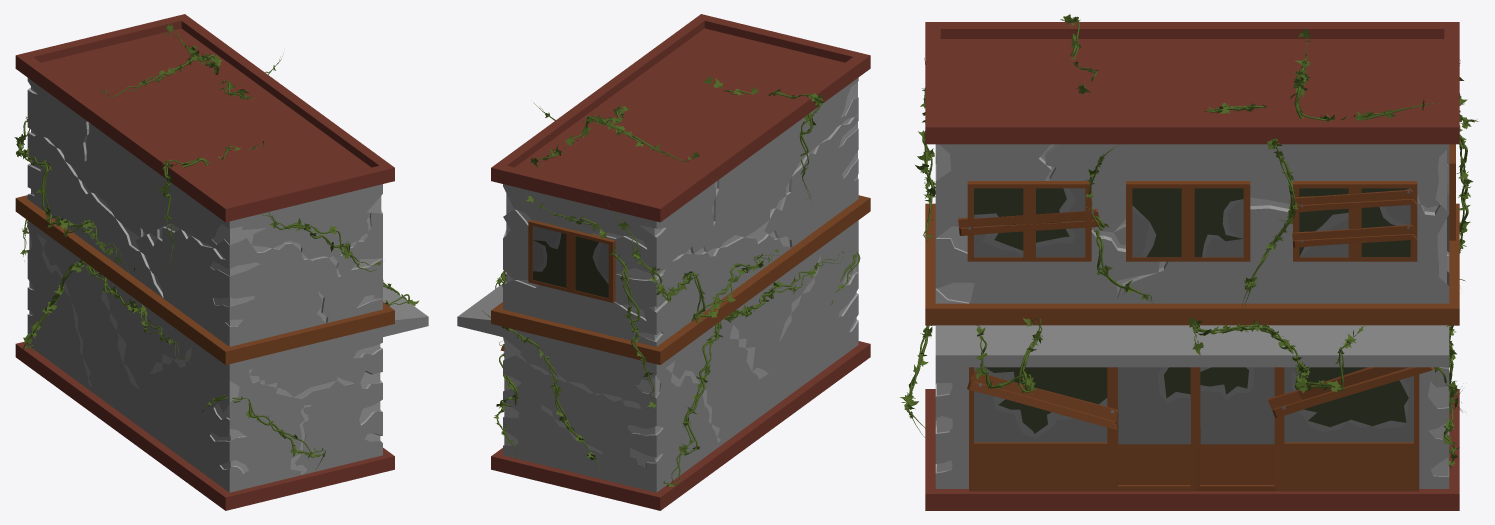
File: Building5_Fix.fbx
3 views of the same model, side by side, from view 1: azimuth 30°, elevation 25°; view 2: azimuth 150°, elevation 25°; view 3: azimuth 270°, elevation 25° (orthographic). The views are drawn at different scales.
Parts seen in each view (by area): view 1: Cube.014, Cube.012, Cube.015, Cube.011, Cube.013, Vines.003; view 2: Cube.014, Cube.012, Cube.015, Vines.003, Cube.011, Cube.013, Cube.010; view 3: Cube.014, Cube.041, Cube.012, Cube.015, Cube.013, Cube.011, Vines.003, Cube.039, Cube.038, Cube.040, Wooden Planks.038, Wooden Planks.037 (+4 smaller).
Part boxes in pixels (bbox=[...]): Cube.014: bbox=[27, 28, 382, 346]; Cube.012: bbox=[27, 220, 428, 492]; Cube.015: bbox=[15, 14, 394, 222]; Cube.011: bbox=[15, 341, 394, 510]; Cube.013: bbox=[15, 195, 394, 364]; Vines.003: bbox=[14, 23, 419, 469]; Cube.014: bbox=[503, 28, 858, 346]; Cube.012: bbox=[457, 220, 858, 492]; Cube.015: bbox=[491, 14, 870, 222]; Vines.003: bbox=[481, 76, 860, 491]; Cube.011: bbox=[491, 341, 870, 510]; Cube.013: bbox=[491, 195, 870, 364]; Cube.010: bbox=[528, 219, 615, 302]; Cube.014: bbox=[935, 39, 1449, 303]; Cube.041: bbox=[969, 367, 1419, 491]; Cube.012: bbox=[935, 325, 1449, 488]; Cube.015: bbox=[925, 22, 1459, 144]; Cube.013: bbox=[925, 203, 1459, 325]; Cube.011: bbox=[925, 389, 1459, 510]; Vines.003: bbox=[899, 14, 1478, 476]; Cube.039: bbox=[1126, 181, 1250, 261]; Cube.038: bbox=[967, 181, 1091, 261]; Cube.040: bbox=[1293, 181, 1417, 261]; Wooden Planks.038: bbox=[967, 371, 1117, 429]; Wooden Planks.037: bbox=[1268, 367, 1433, 417].
Bounding box in the file's own units: 561 × 729 × 942.
